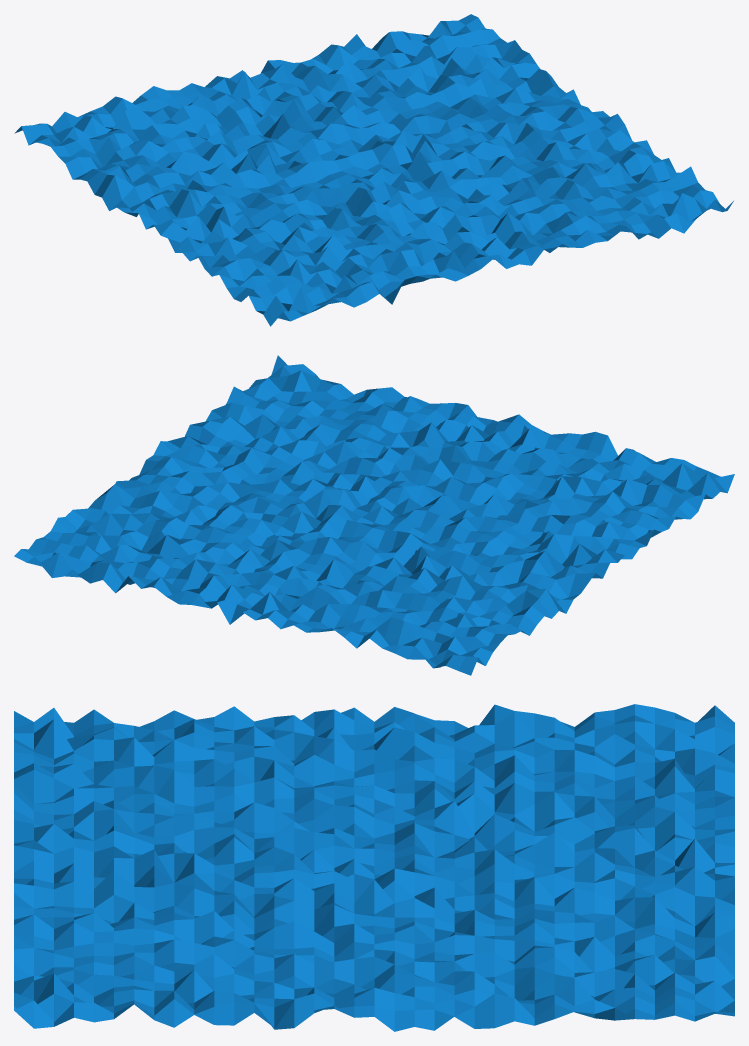
Rendered from River.fbx.
3 renders of one model, top to bottom at view 1: azimuth 30°, elevation 25°; view 2: azimuth 150°, elevation 25°; view 3: azimuth 270°, elevation 25°, orthographic. The views are drawn at different scales.
Visible parts, largest first — view 1: Plane; view 2: Plane; view 3: Plane.
Part boxes in pixels (<box>): Plane: <box>14,14,733,326</box>; Plane: <box>14,355,734,675</box>; Plane: <box>14,704,734,1031</box>.
Size of the model in its own units: 1828 by 125 by 1828.
